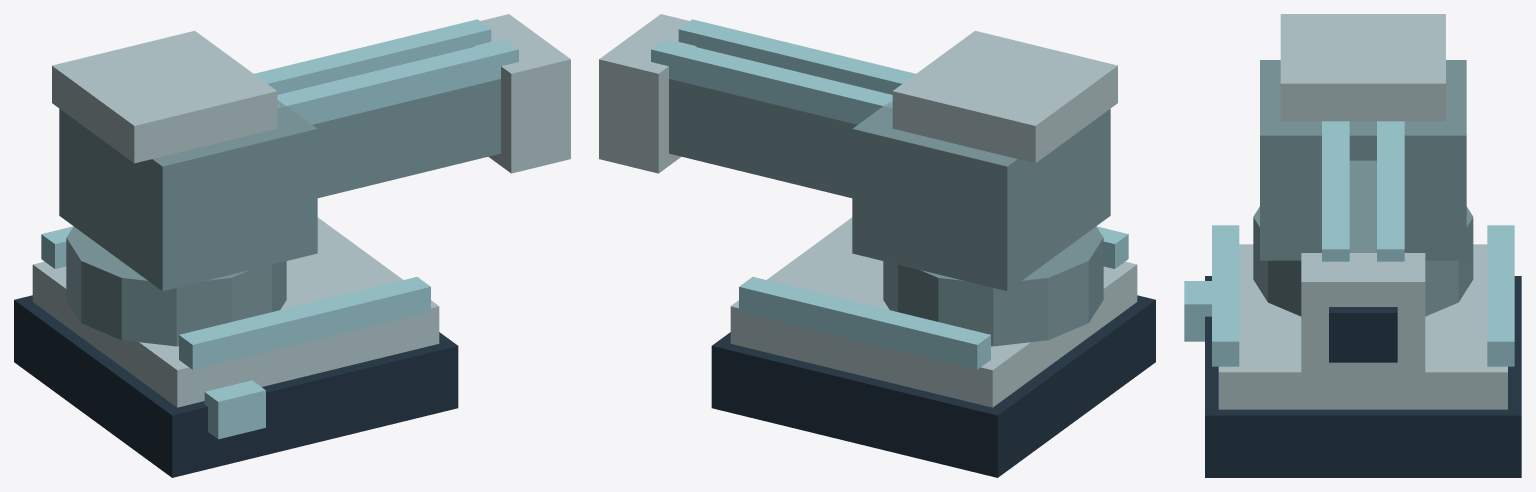
File: module-pulse.glb
The picture shows the model from 3 angles, left to right: view 1: azimuth 30°, elevation 25°; view 2: azimuth 150°, elevation 25°; view 3: azimuth 270°, elevation 25°; orthographic projection.
Visible parts, largest first — view 1: 晶矢轻炮; view 2: 晶矢轻炮; view 3: 晶矢轻炮.
Boxes of the visible parts, bbox=[...] form: 晶矢轻炮: bbox=[14, 14, 570, 477]; 晶矢轻炮: bbox=[599, 14, 1155, 477]; 晶矢轻炮: bbox=[1184, 14, 1521, 477].
Size of the model in its own units: 0.395 by 0.26 by 0.245.
